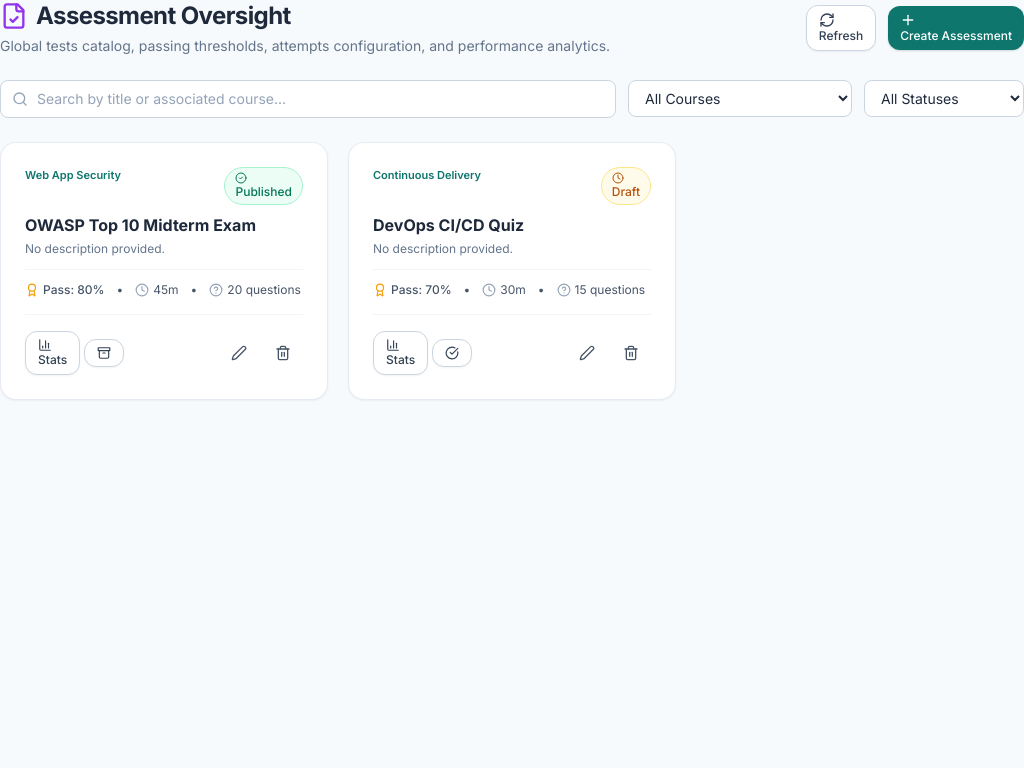
AdminAssessmentsPage › inspects assessment performance metrics in a modal
Check: the heading "OWASP Top 10 Midterm Exam" is shown, box left=25, top=215, right=256, bottom=235
Click the button titled "View Performance Analytics" below "80" at (53, 353), box left=25, top=331, right=80, bottom=375
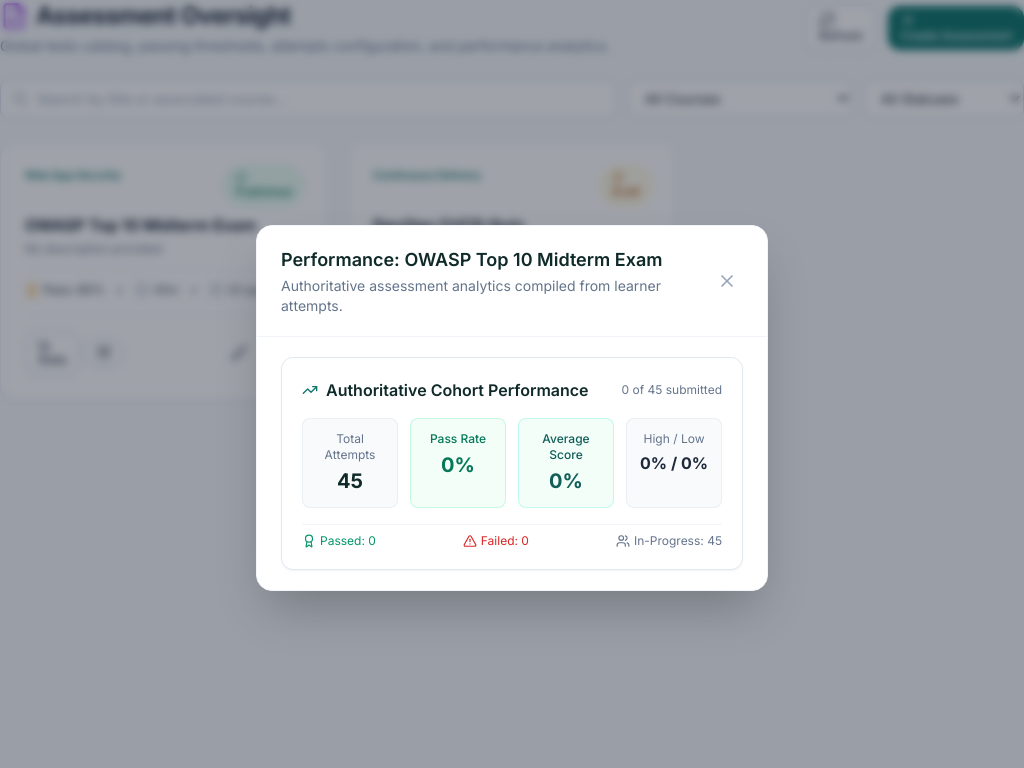
Check: the heading "Performance: OWASP Top 10 Midterm Exam" is shown, box left=281, top=246, right=711, bottom=274
